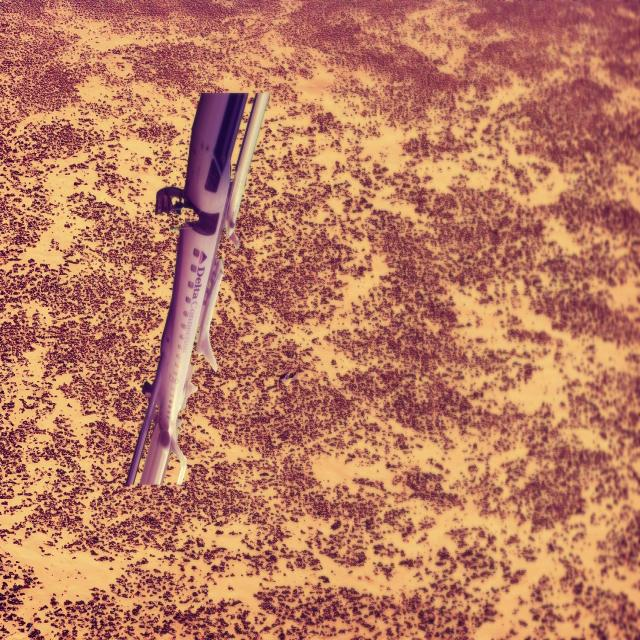airplane: (125, 89, 269, 488)
